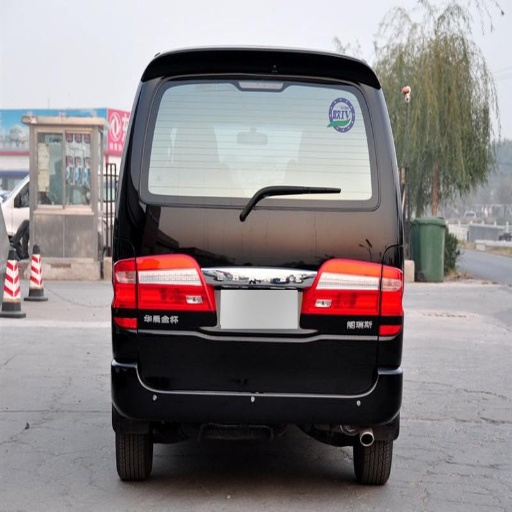back_bumper: (111, 330, 401, 436)
trunk: (131, 211, 392, 387)
